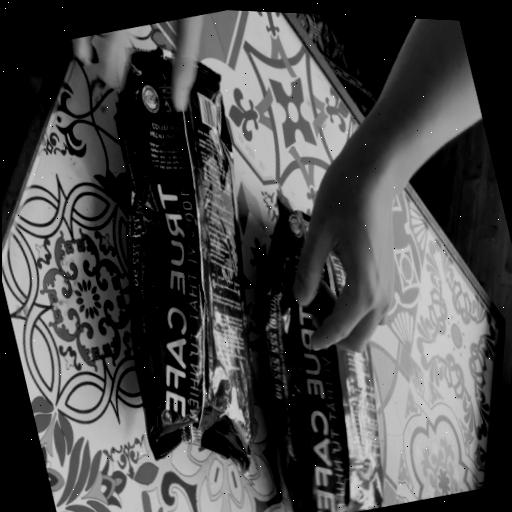cafe_hat: (115, 51, 254, 477)
cafe_xay: (263, 195, 383, 512)
